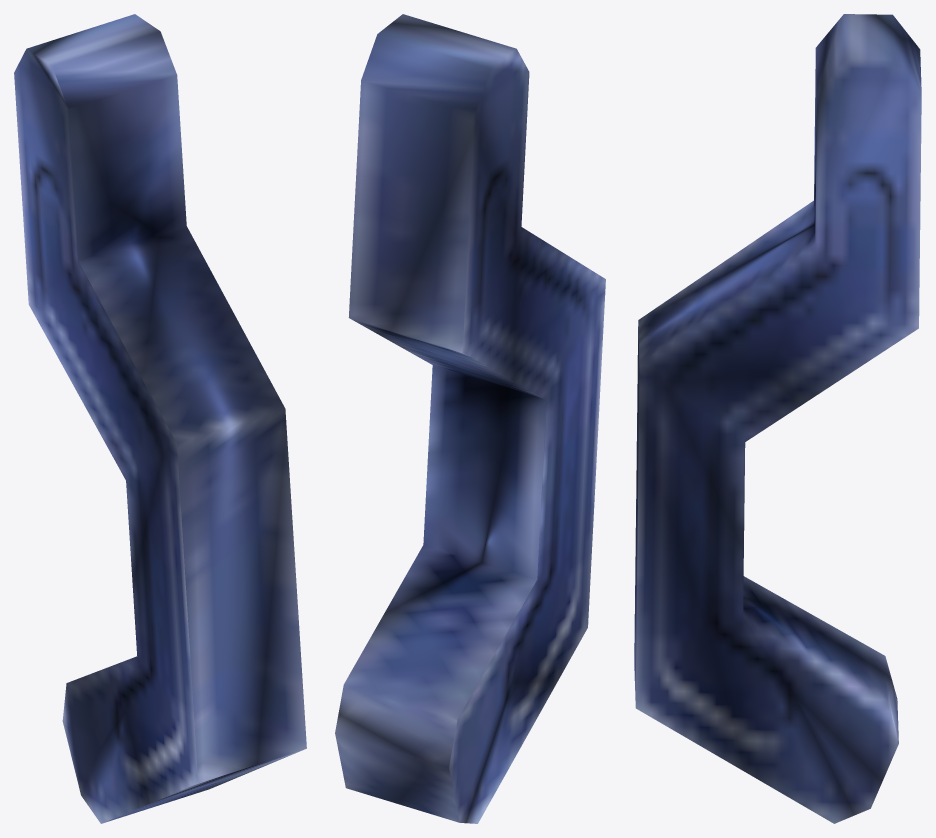
Rendered from Robot01.LeftHip1.fbx.
3 renders of one model, left to right at view 1: azimuth 30°, elevation 25°; view 2: azimuth 150°, elevation 25°; view 3: azimuth 270°, elevation 25°, orthographic. The views are drawn at different scales.
Parts seen in each view (by area): view 1: Robot01.LeftHip1; view 2: Robot01.LeftHip1; view 3: Robot01.LeftHip1.
Part boxes in pixels (box(x1,y1,x2,y2)): Robot01.LeftHip1: box(14, 14, 306, 823); Robot01.LeftHip1: box(335, 14, 605, 823); Robot01.LeftHip1: box(634, 14, 921, 823).
Size of the model in its own units: 9.09 by 43.77 by 15.17.
